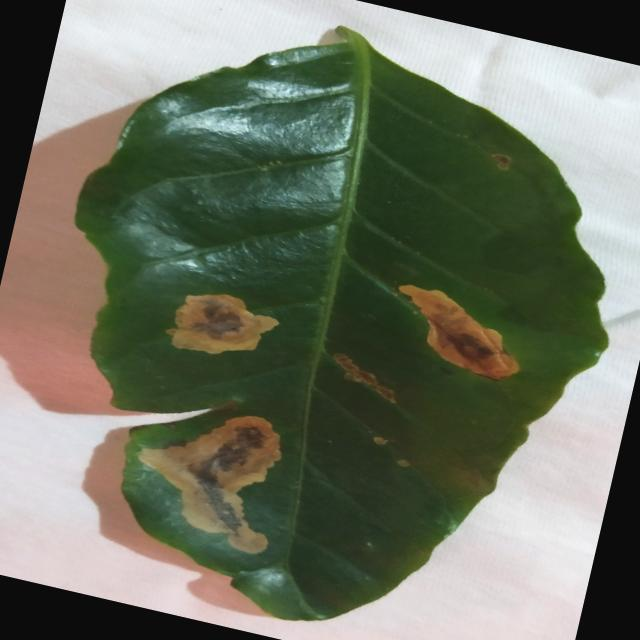PengorokDaunKopi: (0, 365, 182, 567), (137, 416, 280, 553), (166, 294, 278, 353), (332, 353, 395, 403), (491, 154, 510, 170), (373, 437, 387, 444)
